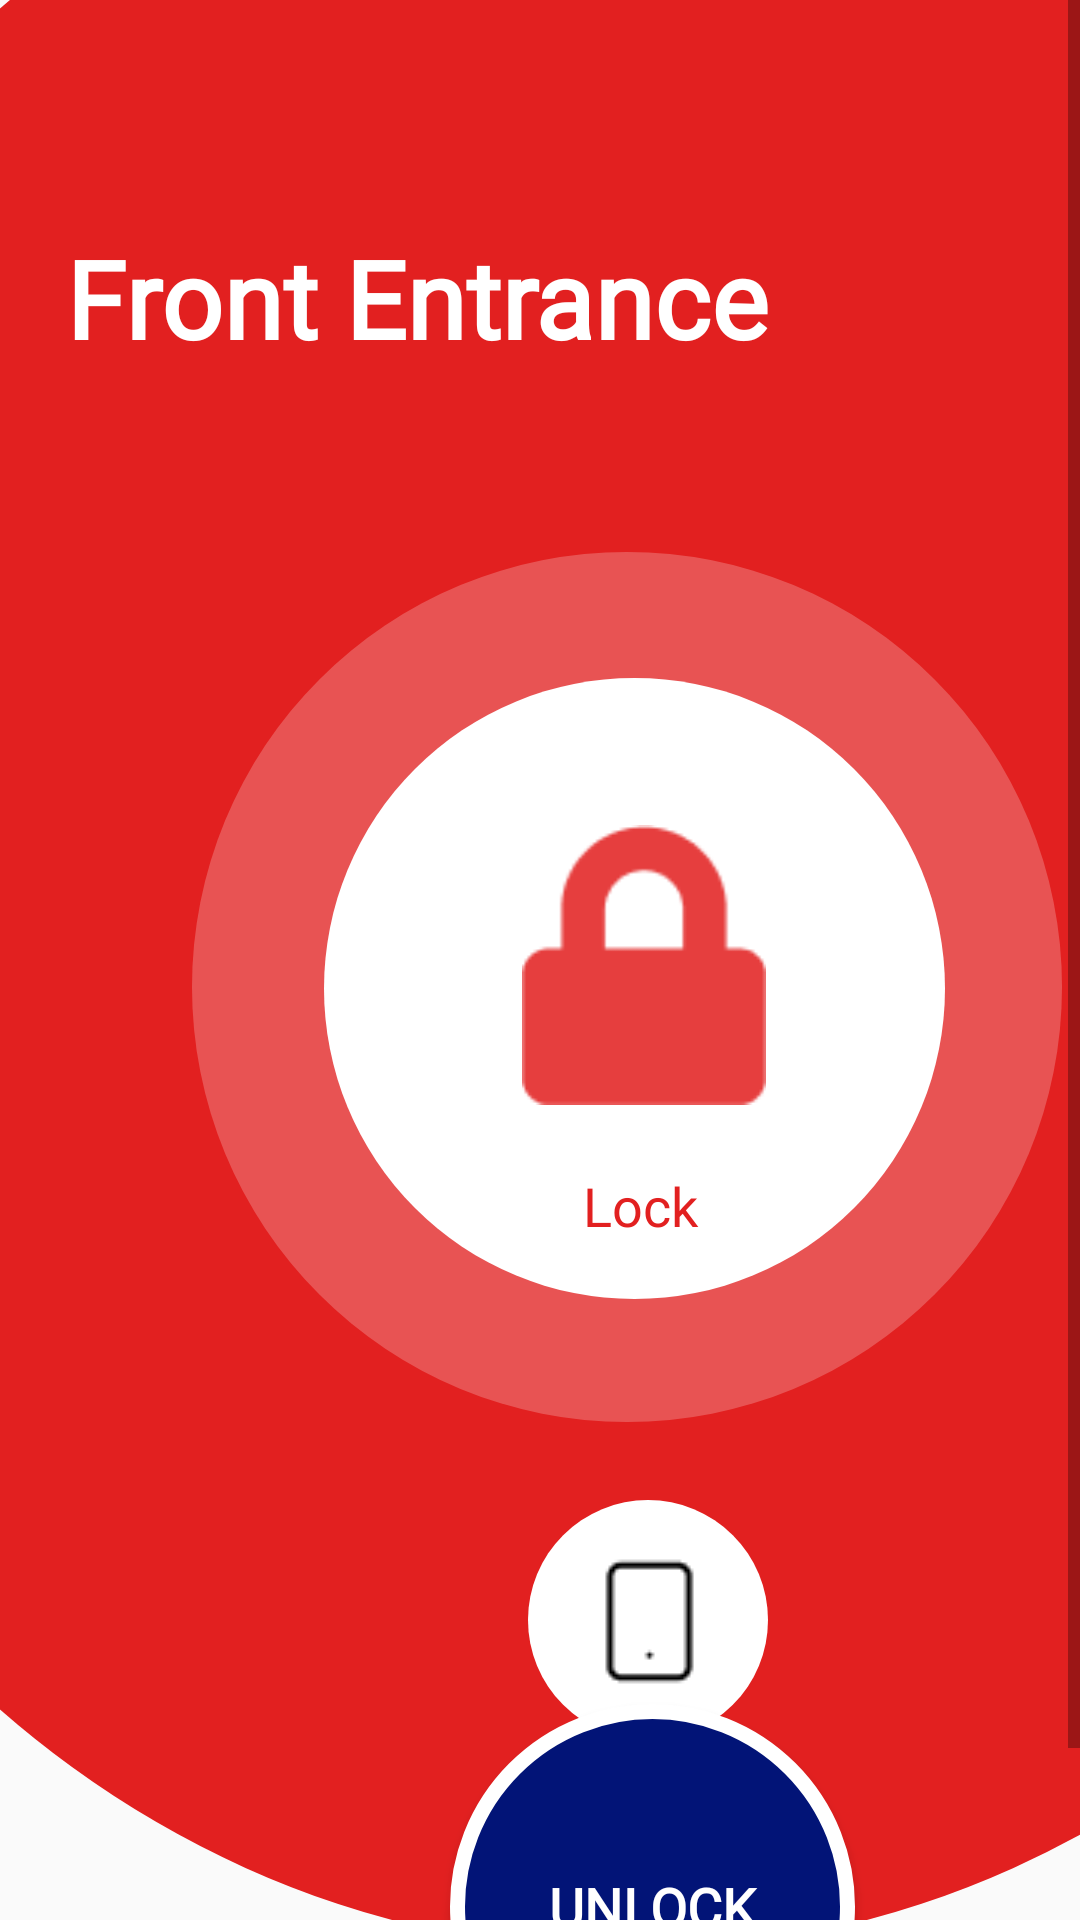

Icon click points for this 1080*1920 phone screenshot, format point (x, y):
smartphone: point (649, 1621)
